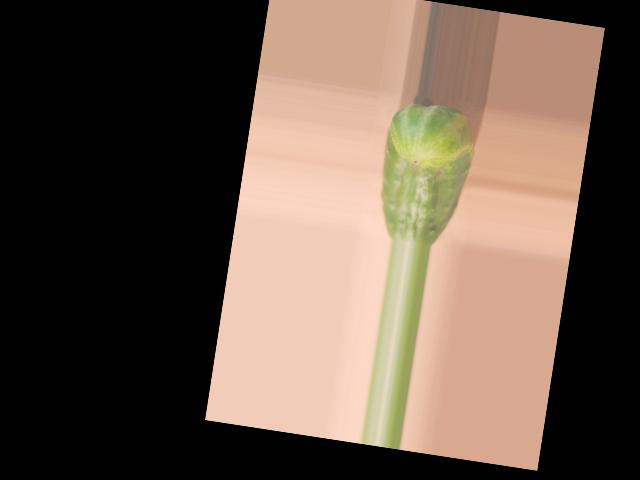cucumber: (371, 98, 479, 250)
